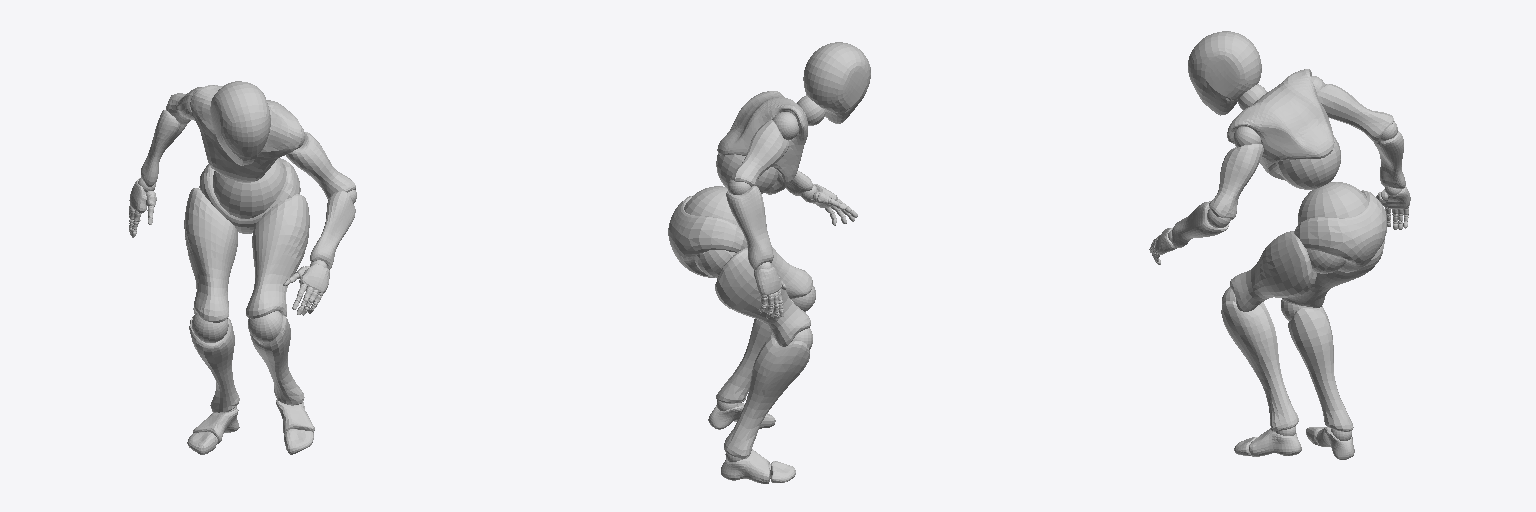
3 views of the same model, side by side, from view 1: azimuth 30°, elevation 25°; view 2: azimuth 150°, elevation 25°; view 3: azimuth 270°, elevation 25° (orthographic).
Parts seen in each view (by area): view 1: Beta_Surface, Beta_Joints; view 2: Beta_Surface, Beta_Joints; view 3: Beta_Surface, Beta_Joints.
Boxes of the visible parts, box(x1,y1,x2,y2) form: Beta_Surface: box(129, 81, 355, 454); Beta_Joints: box(129, 104, 356, 444); Beta_Surface: box(668, 42, 870, 483); Beta_Joints: box(684, 95, 853, 478); Beta_Surface: box(1149, 31, 1410, 459); Beta_Joints: box(1150, 76, 1409, 444).
Bounding box in the file's own units: 0.5328 × 1.47 × 0.8626.